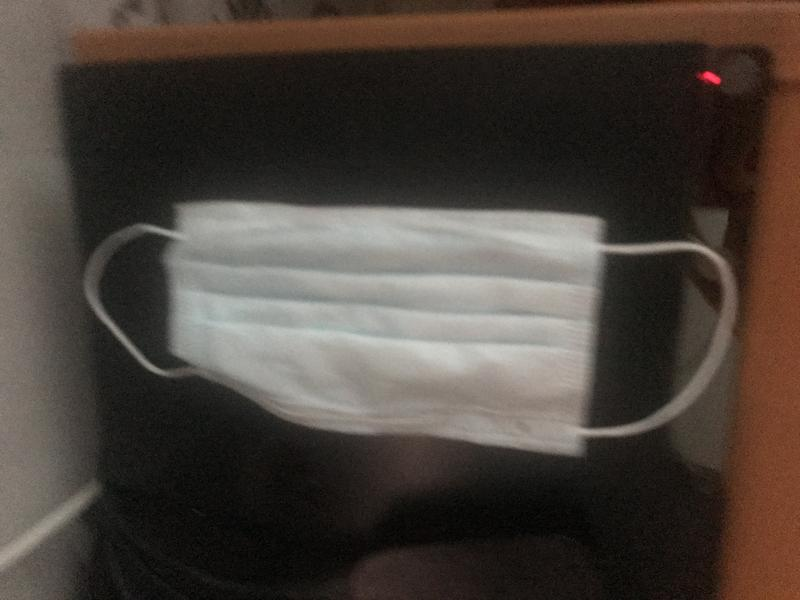medical_mask: (85, 201, 735, 455)
